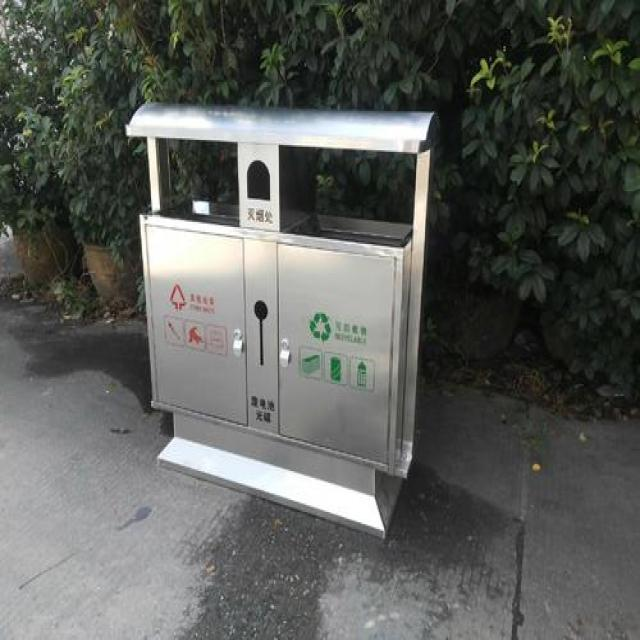garbage_bin: (123, 101, 435, 539)
